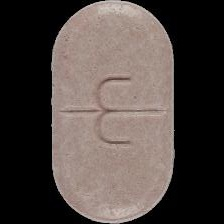51138-057: (0, 0, 224, 224)
